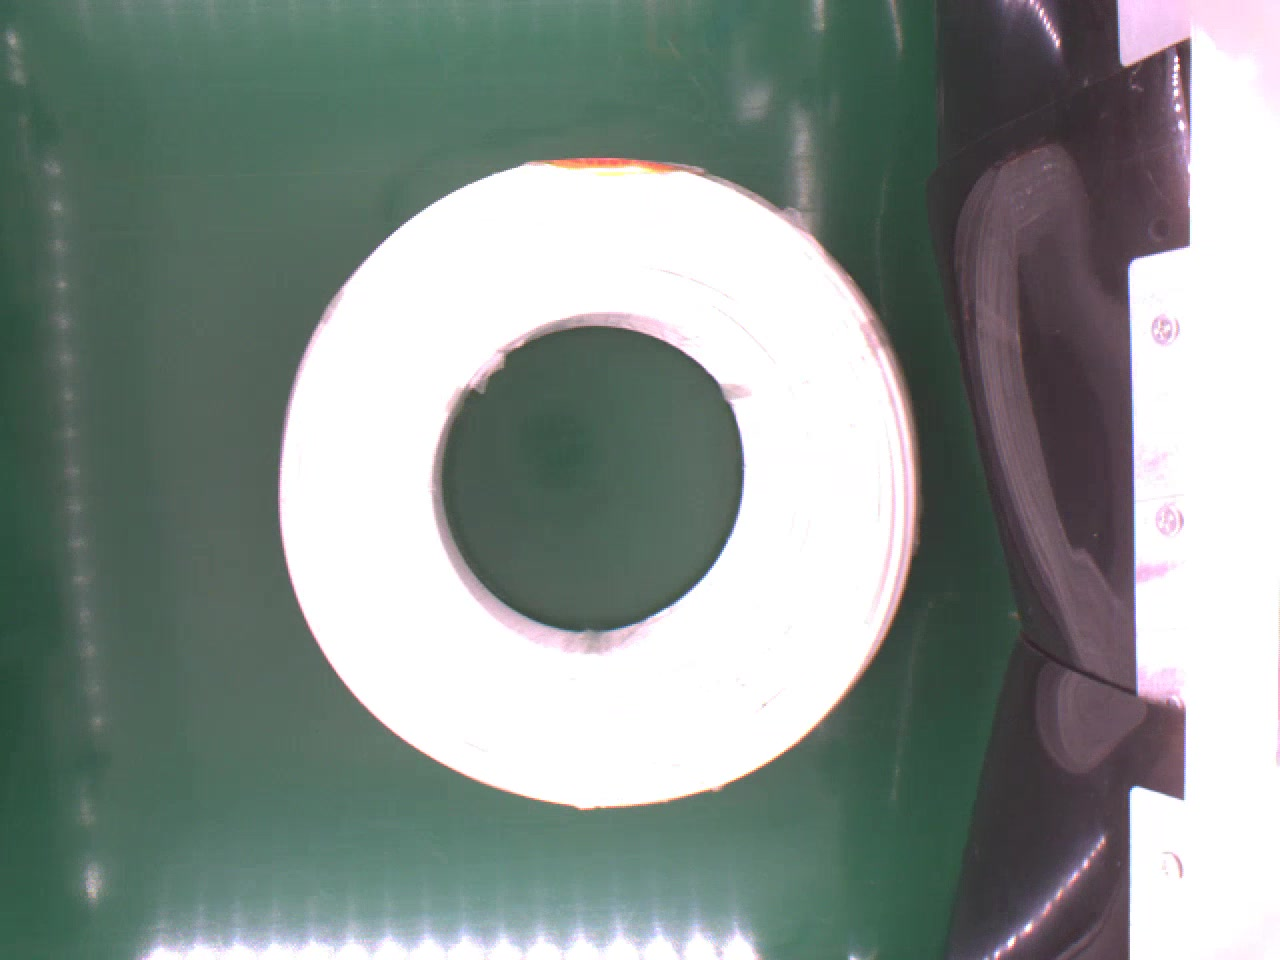white: (277, 151, 932, 809)
